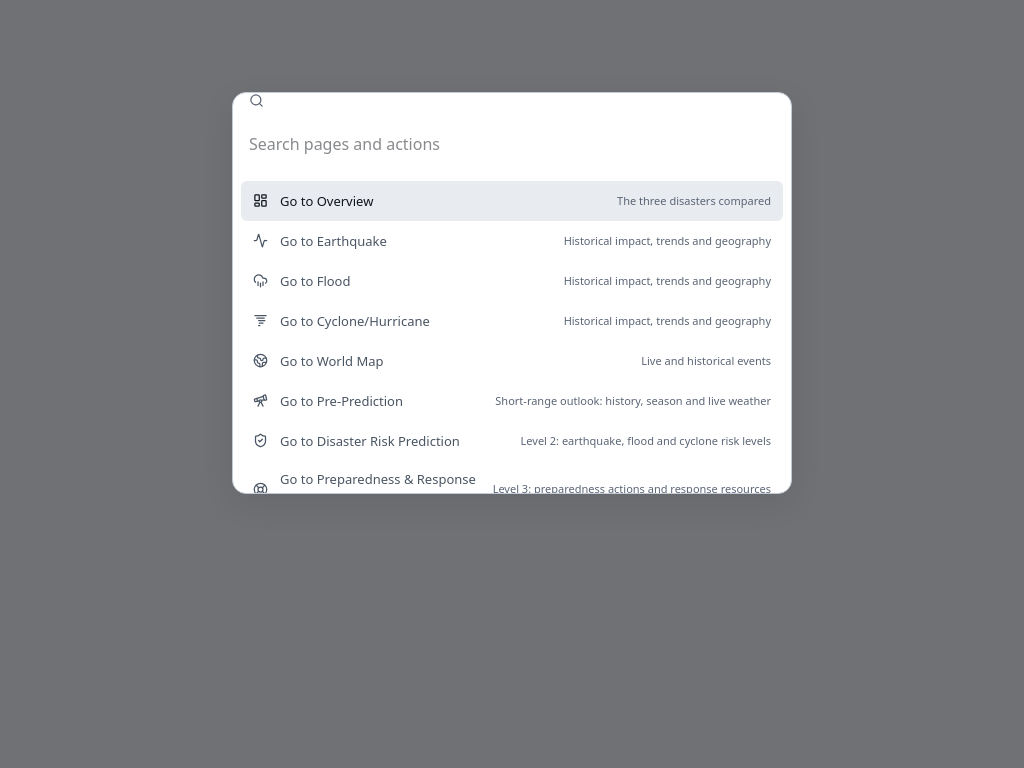
Test: CommandPalette › shows an empty state when nothing matches
Type "zzzz" into the field at [512, 145], box top-left (249, 116), bottom-right (775, 173)
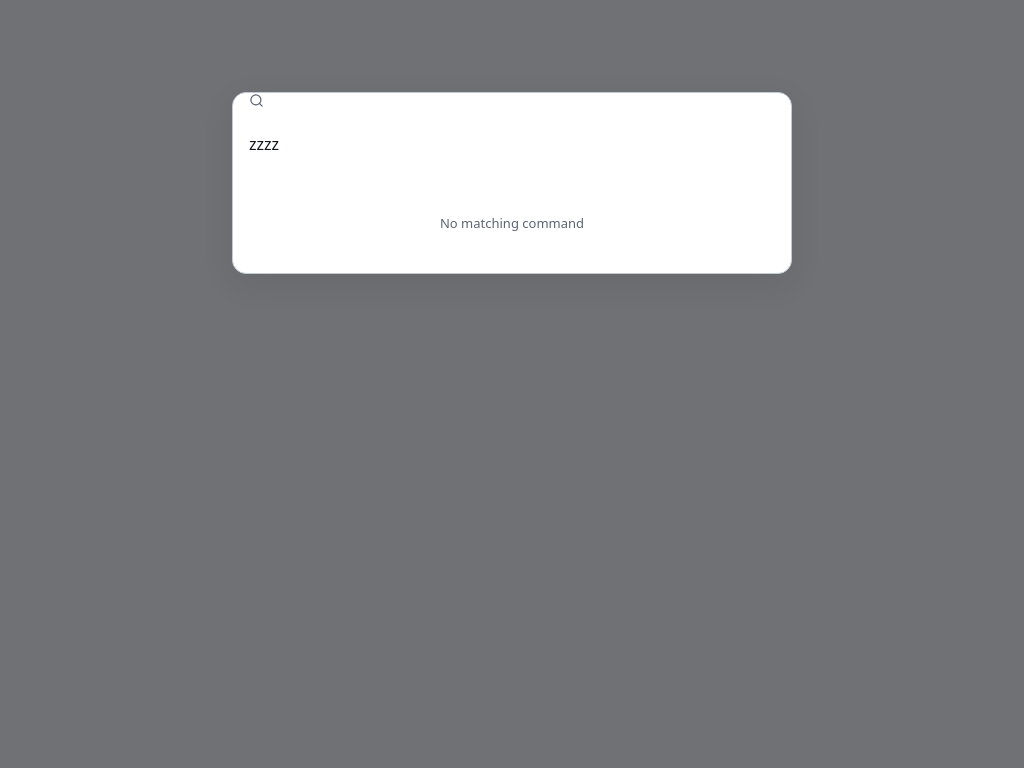
Now the text "No matching command" is shown, box top-left (440, 214), bottom-right (584, 232)
